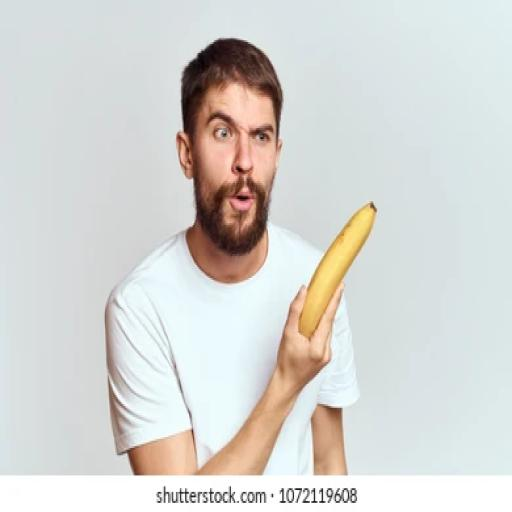banana: (300, 202, 376, 338)
